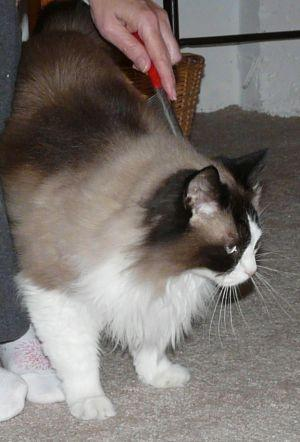ragdoll: (177, 146, 276, 303)
